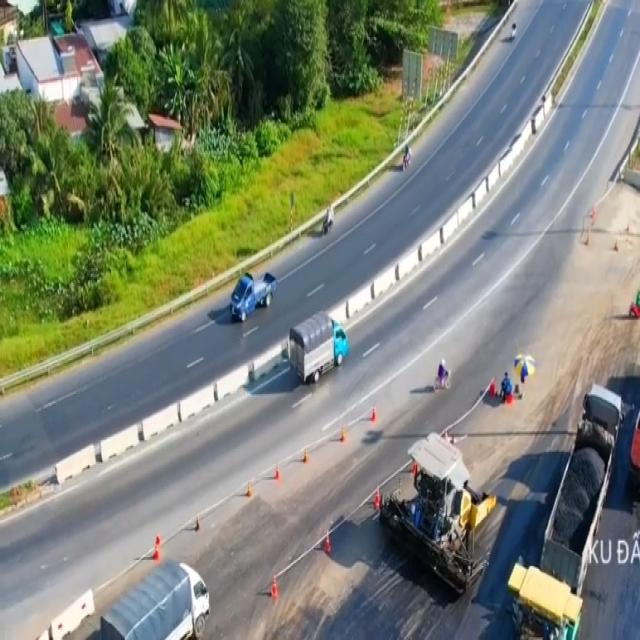truck: (97, 555, 209, 640), (288, 312, 347, 379), (230, 266, 276, 329)
